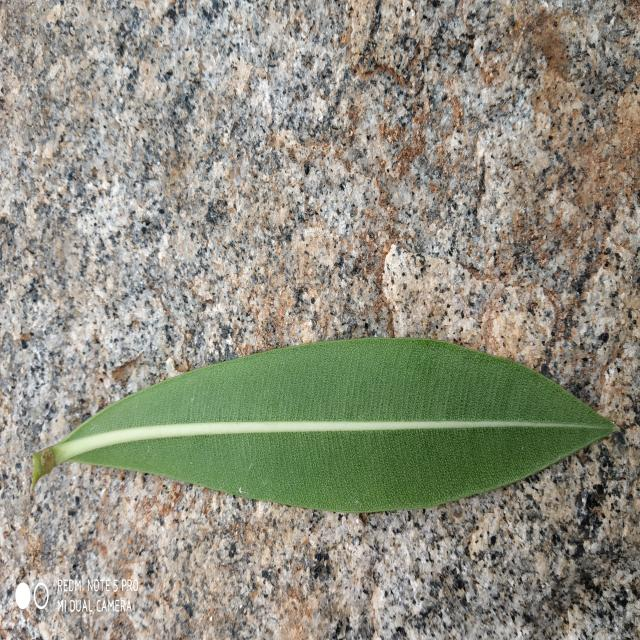ganigale: (32, 338, 615, 513)
